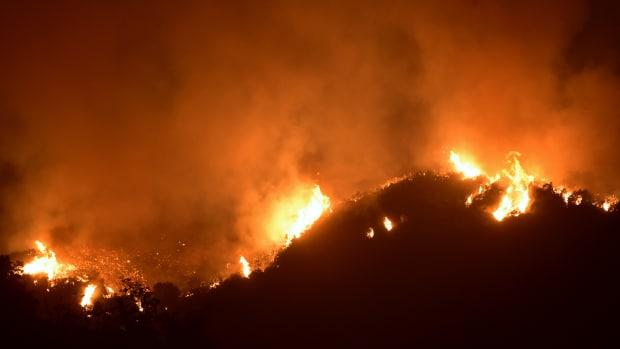Fire: (444, 144, 610, 220), (229, 183, 328, 281), (15, 234, 118, 313)
